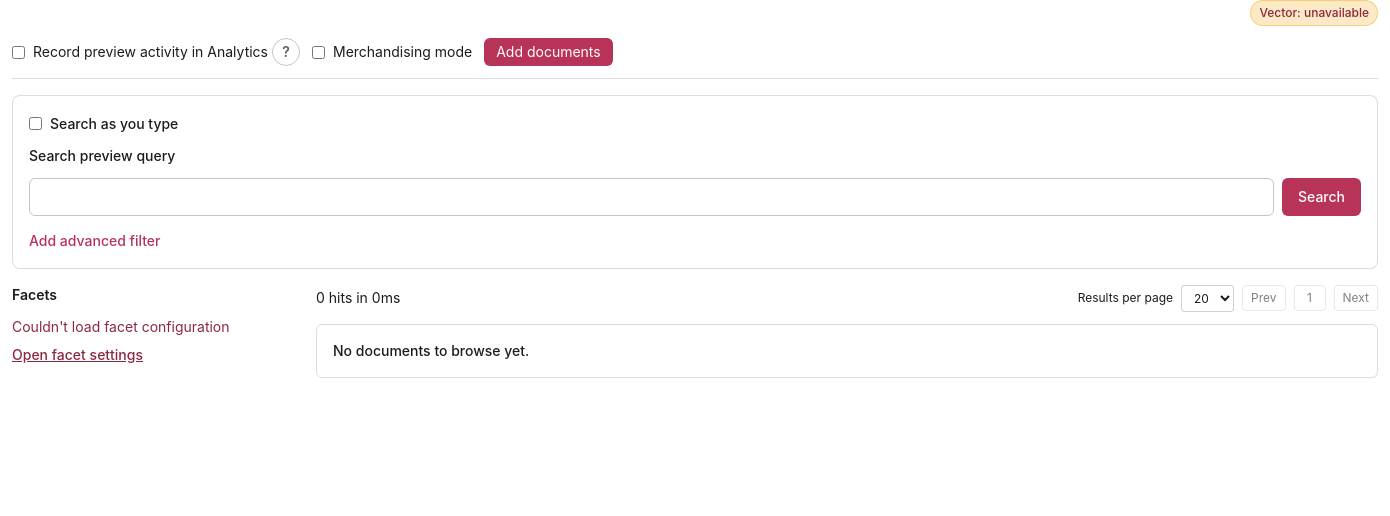
InstantSearch › drops stale responses via activeRequest when a newer search finishes later
This screenshot has width=1390, height=516.
Type "old query" into the search field labelled "Search preview query" at (652, 196), box top-left (29, 178), bottom-right (1274, 216)
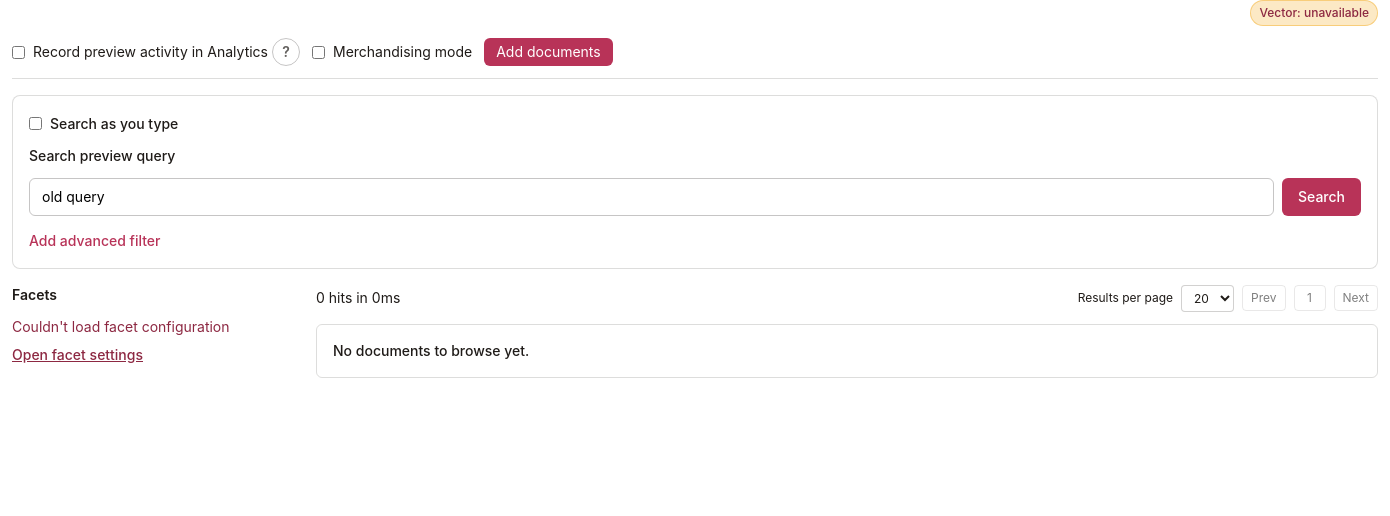
Press Enter in the search field labelled "Search preview query", box top-left (29, 178), bottom-right (1274, 216)
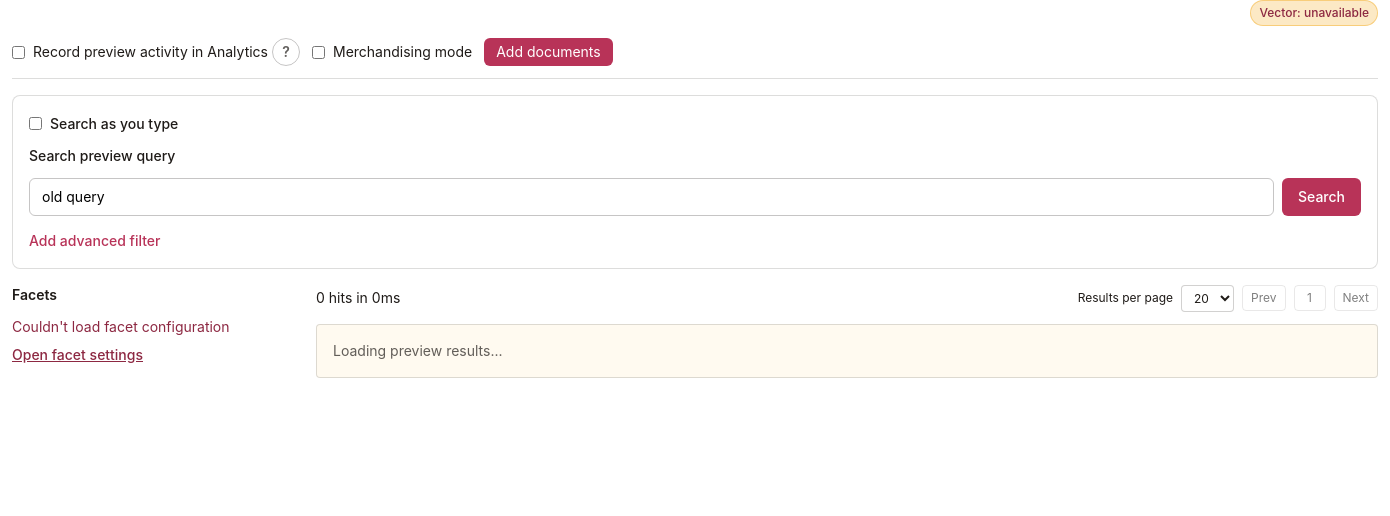
Replace the text in the search field labelled "Search preview query" with "new query" at (652, 196), box top-left (29, 178), bottom-right (1274, 216)
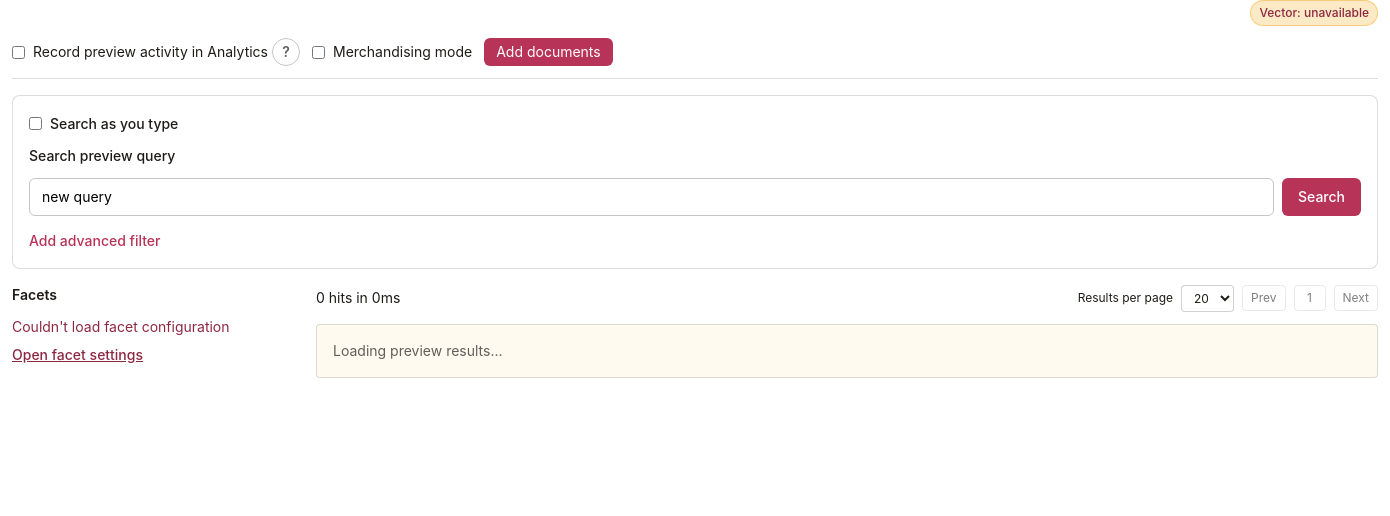
Press Enter in the search field labelled "Search preview query", box top-left (29, 178), bottom-right (1274, 216)
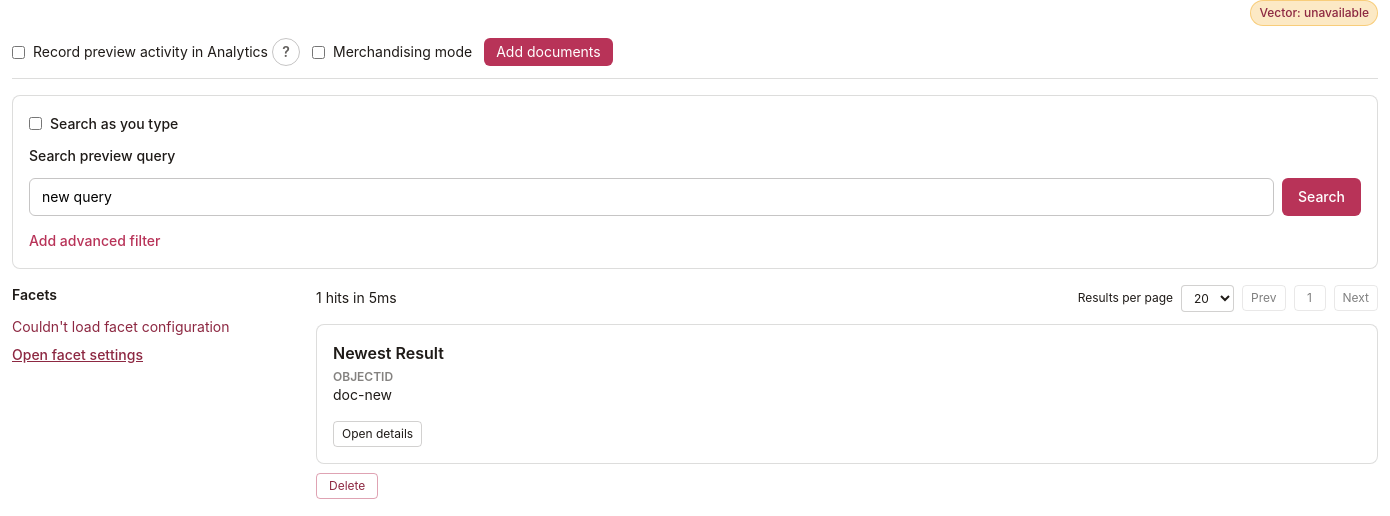
Expected: the text "Newest Result" is shown, top-left (333, 342), bottom-right (444, 362)
